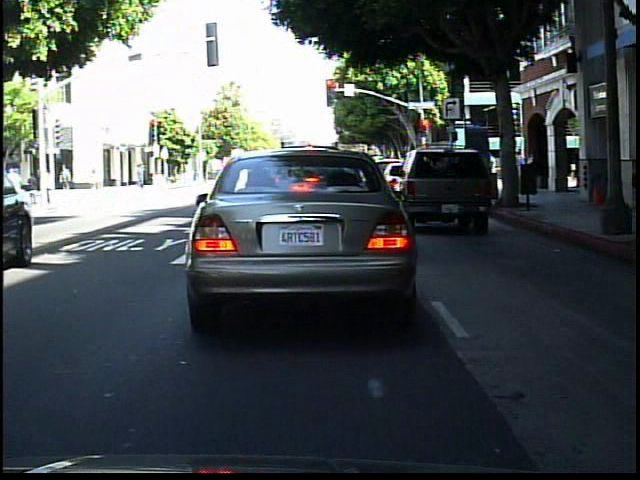person: (617, 141, 639, 221), (590, 142, 612, 217), (86, 161, 102, 197), (44, 163, 57, 207), (58, 161, 74, 191), (134, 161, 150, 191), (30, 168, 35, 206)
